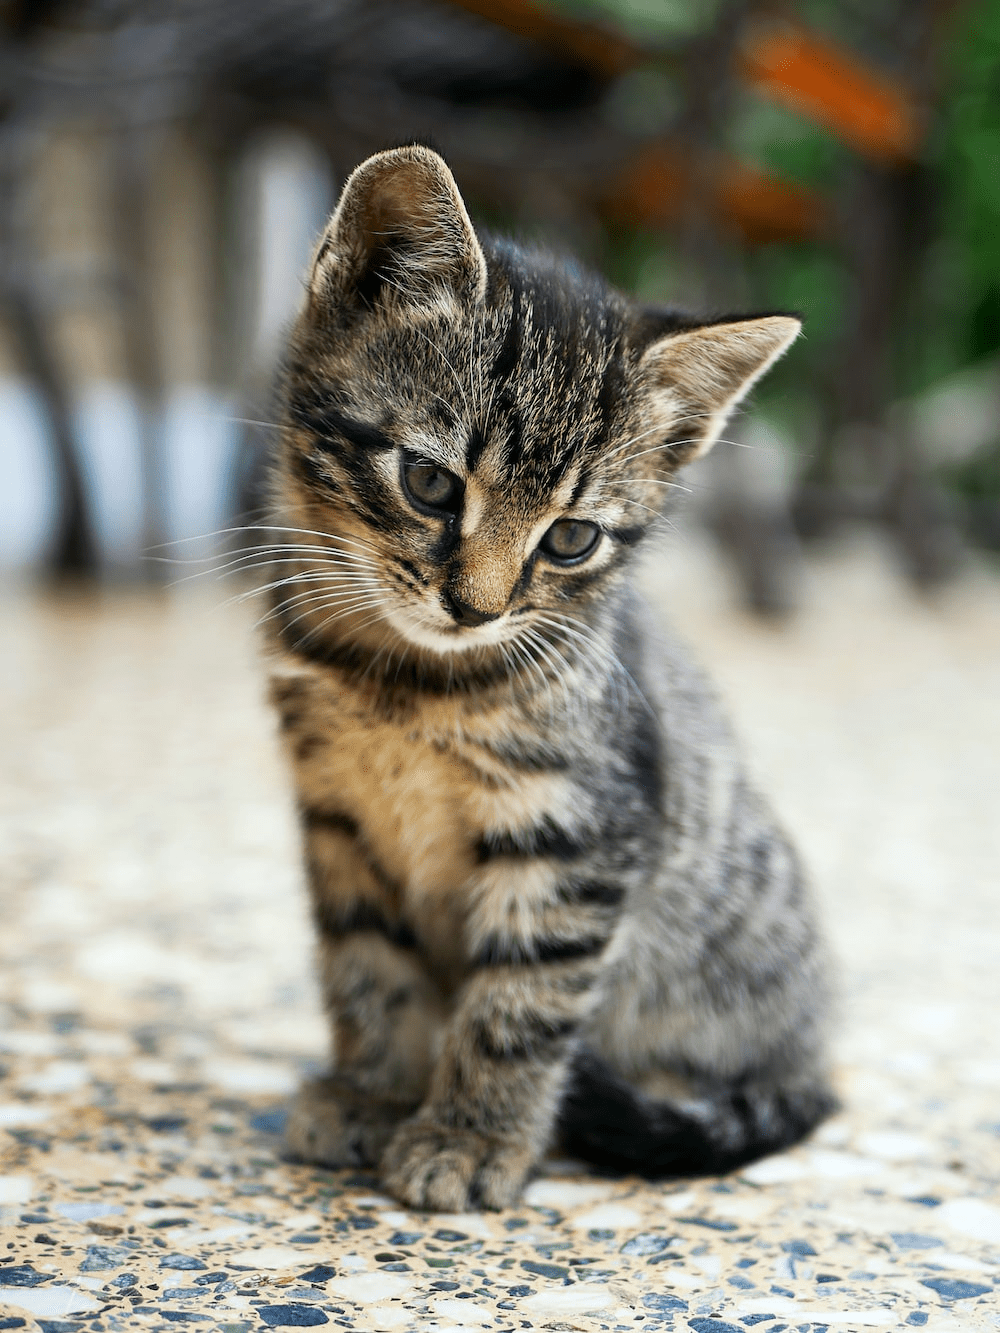cat: (261, 123, 867, 1215)
